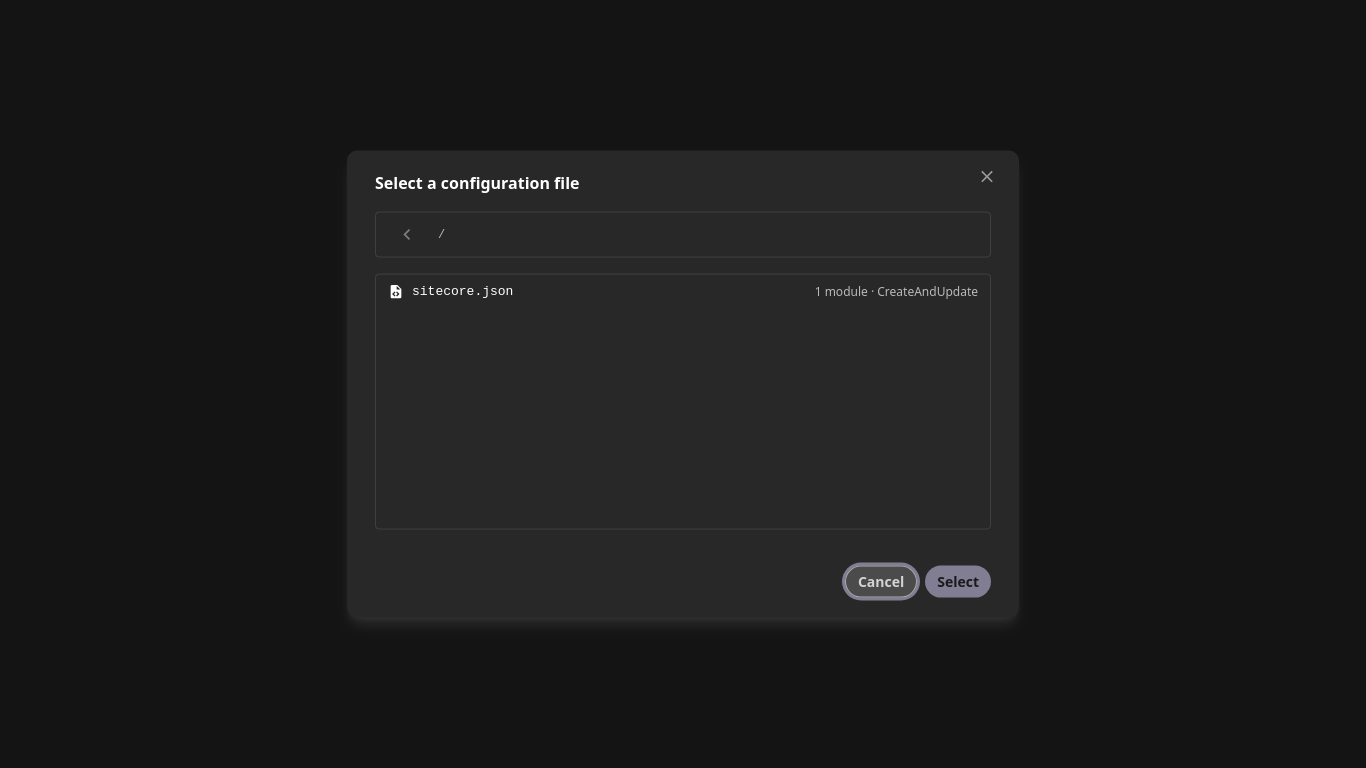
Test: OpenProjectWizard › selecting a config file advances to the layer-selection step with one layer
This screenshot has width=1366, height=768.
Click the text "sitecore.json" at [463, 291], box [412,283,513,298]
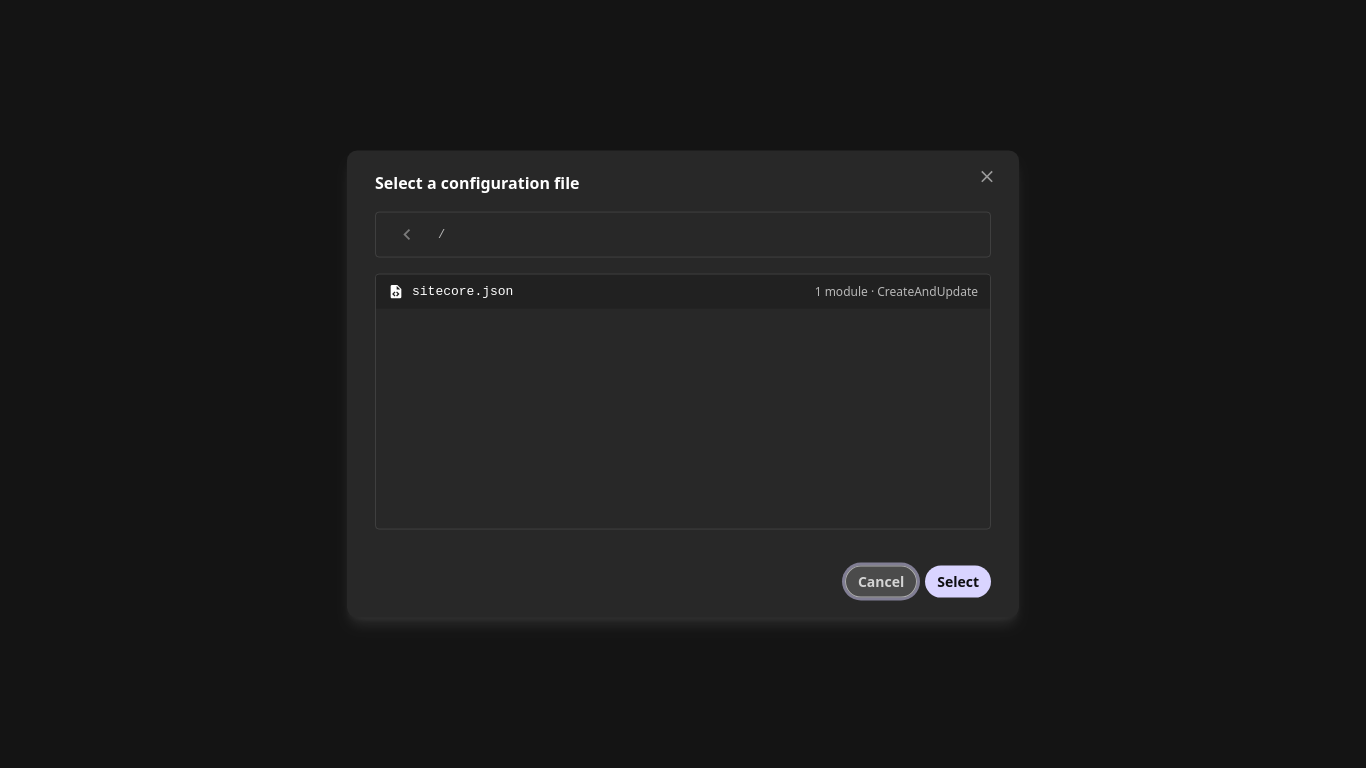
Click the button "Select" at [958, 581], box [925,565,991,597]
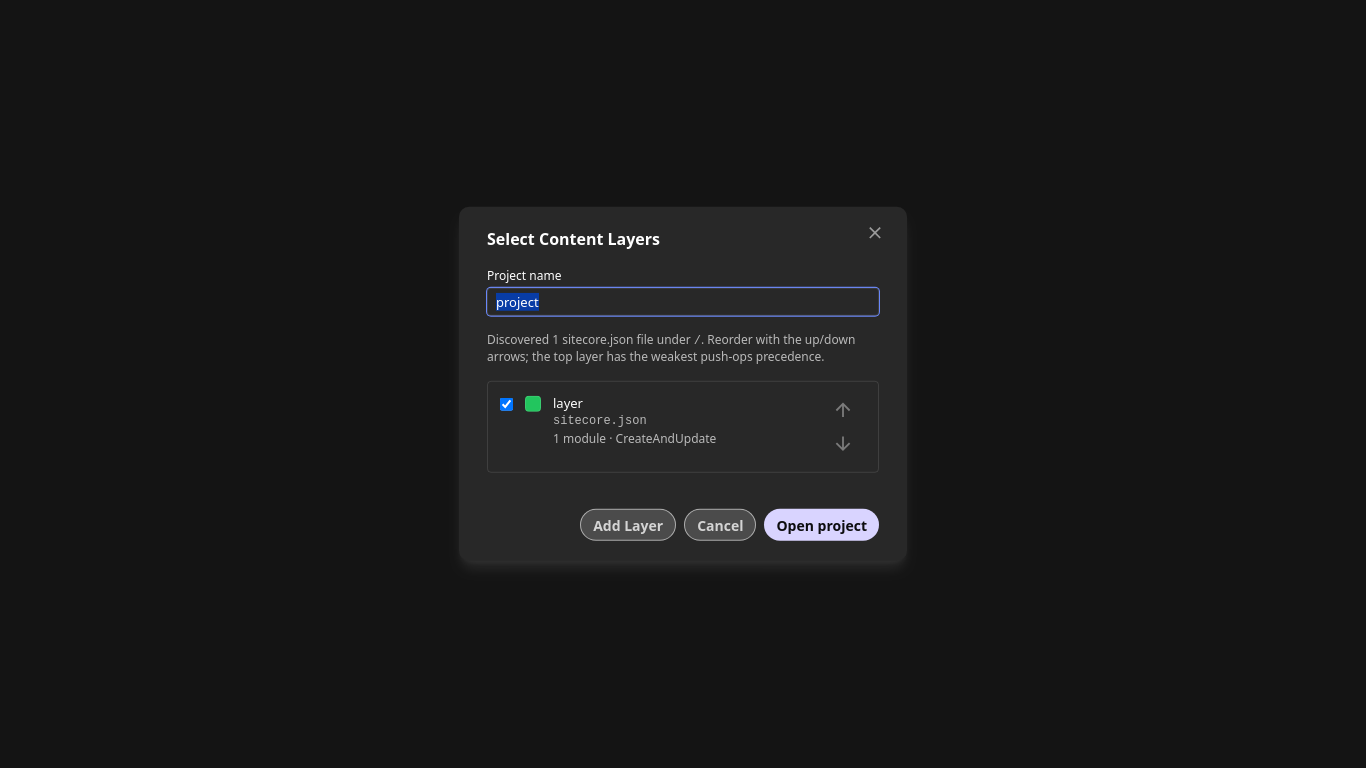
expect the button "Open project" is shown: met, box [764,509,879,541]
expect the text "sitecore.json" is shown: met, box [553,414,647,428]
